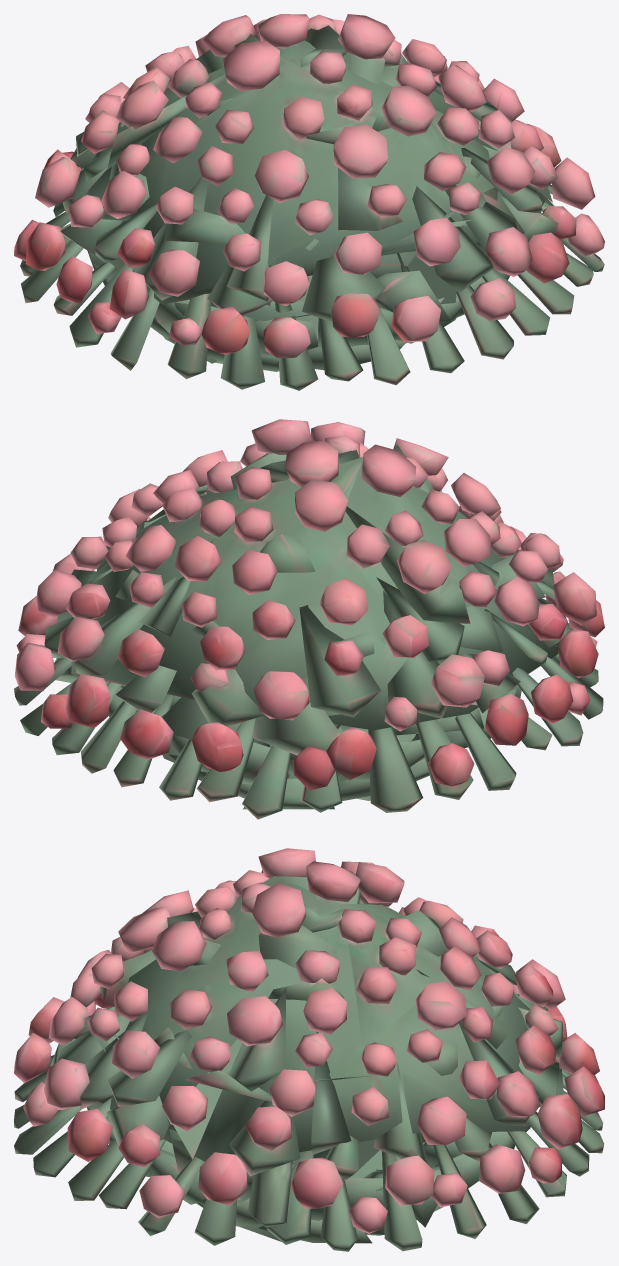
The model's file is roses.glb.
3 renders of one model, top to bottom at view 1: azimuth 30°, elevation 25°; view 2: azimuth 150°, elevation 25°; view 3: azimuth 270°, elevation 25°, orthographic. The views are drawn at different scales.
Bounding box in the file's own units: 1 × 0.6398 × 1.
1 material, 1 textured.
